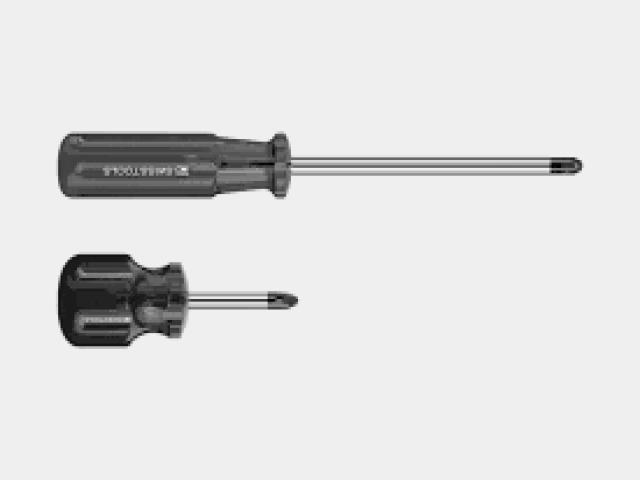Screwdriver: (59, 134, 582, 198), (59, 255, 298, 348)
